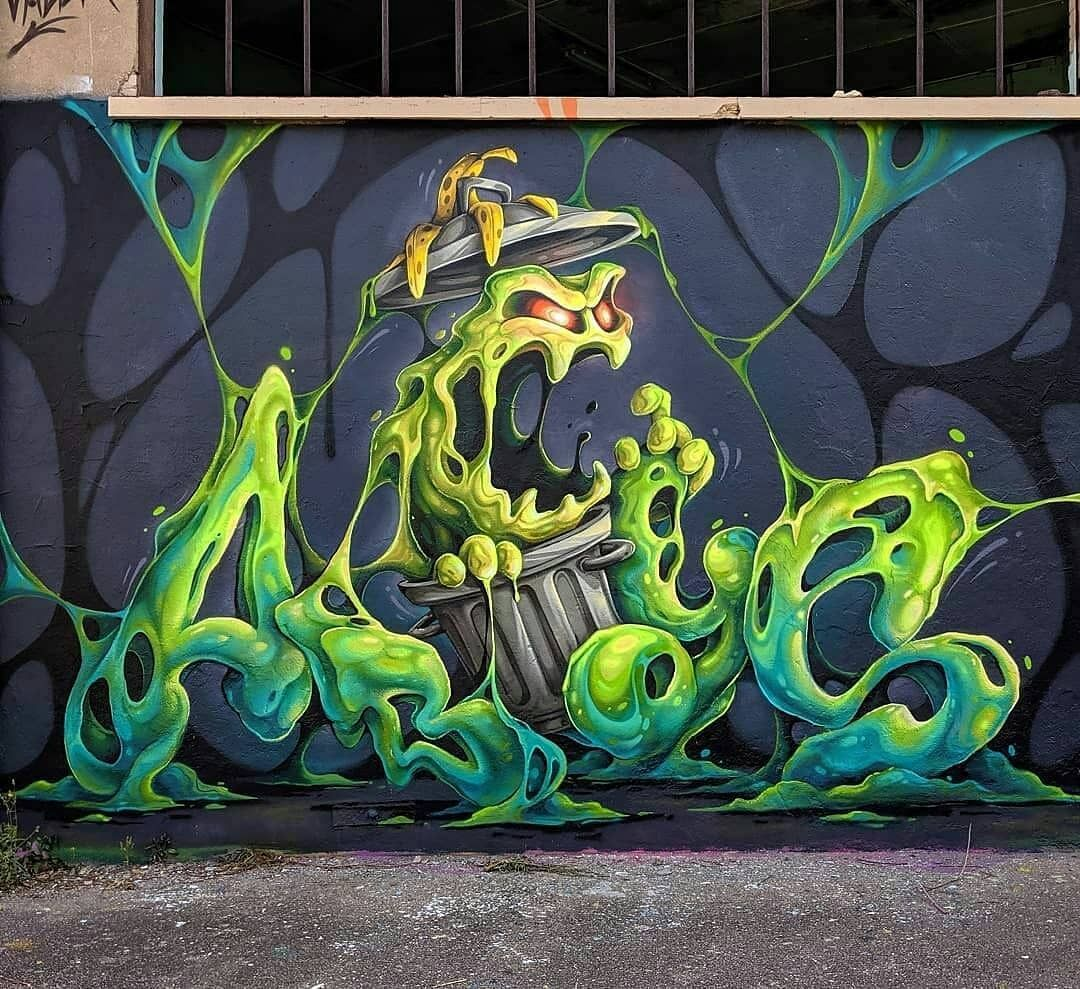graphite: (10, 113, 1080, 837)
